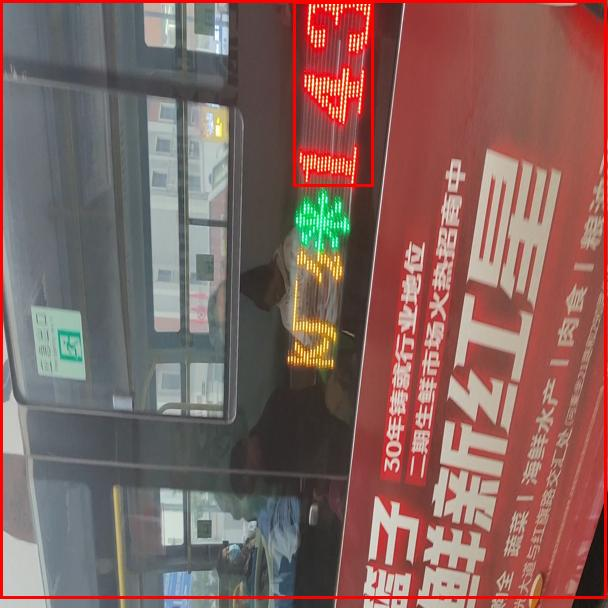bus: (0, 0, 606, 598)
screen: (293, 1, 373, 186)
